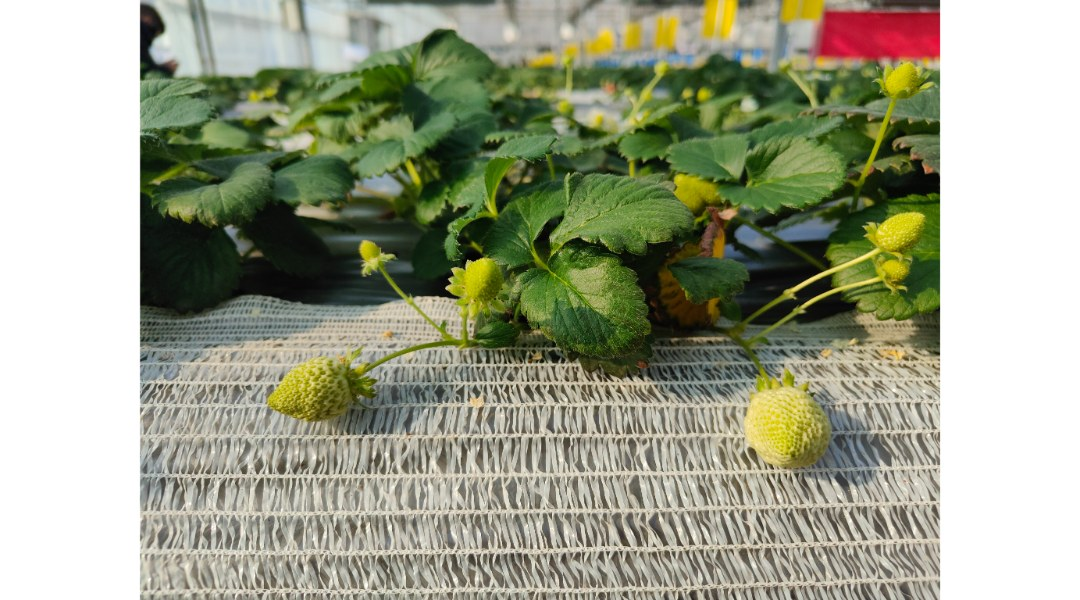berry: (736, 377, 827, 475), (261, 353, 373, 430), (873, 52, 939, 109), (861, 205, 938, 252), (871, 247, 922, 294), (350, 225, 391, 283)
strain: (743, 246, 866, 325), (754, 277, 866, 342), (449, 248, 510, 327), (393, 271, 441, 336), (866, 100, 898, 190), (366, 346, 442, 377)
